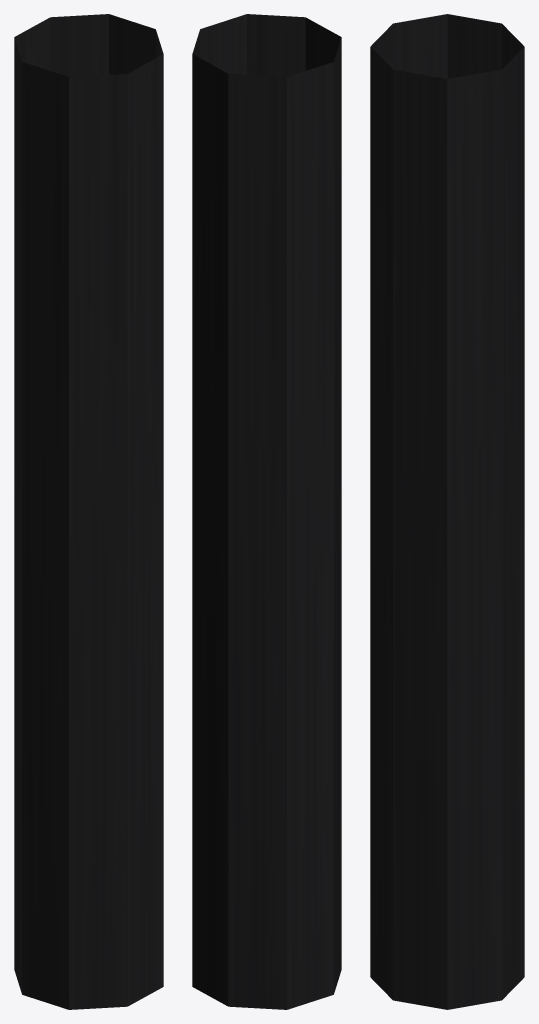
Rendered from cell_47.obj.
The picture shows the model from 3 angles, left to right: view 1: azimuth 30°, elevation 25°; view 2: azimuth 150°, elevation 25°; view 3: azimuth 270°, elevation 25°; orthographic projection.
Bounding box in the file's own units: 0.15 × 1 × 0.15.
